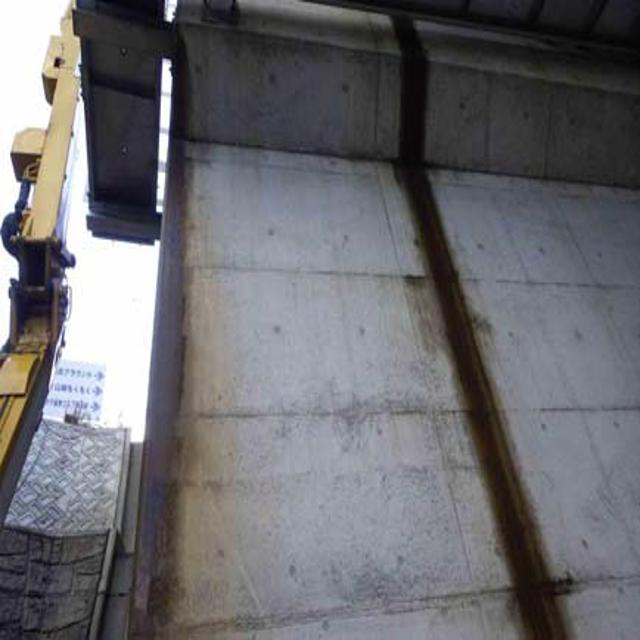leakage: (378, 24, 586, 640)
